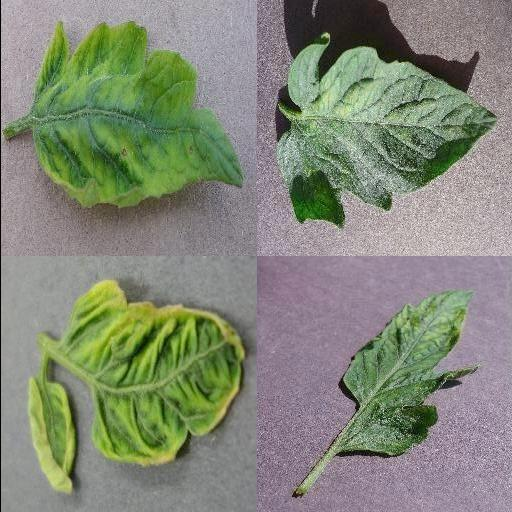Mosaic Virus: (332, 287, 480, 457)
Spider Mites: (273, 35, 501, 229)
Yellow Leaf Curl Virus: (34, 19, 244, 211), (63, 279, 245, 467), (26, 375, 74, 495)
